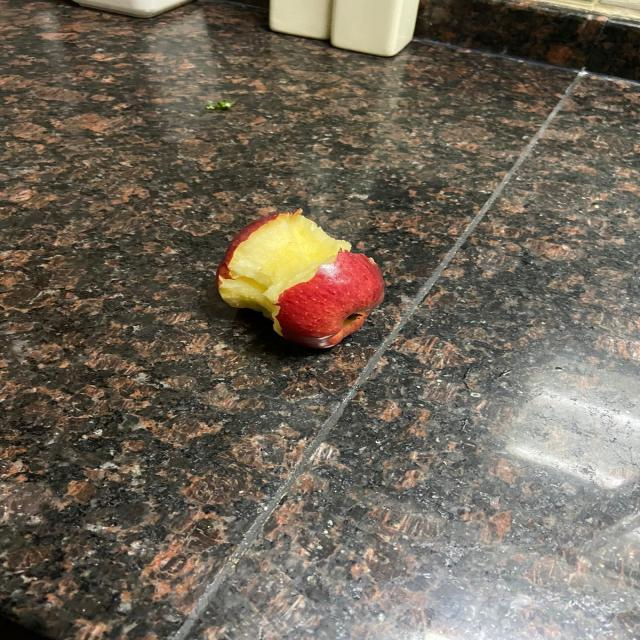apple: (205, 208, 386, 352)
